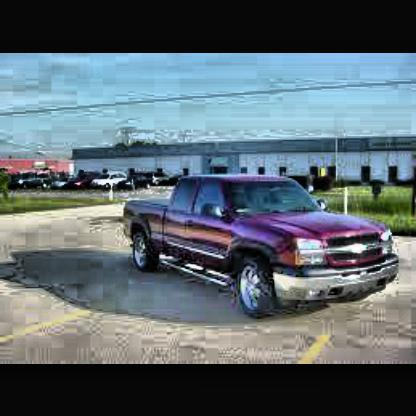Chevrolet Silverado 1500 Classic Extended Cab 2007: (120, 165, 404, 325)
